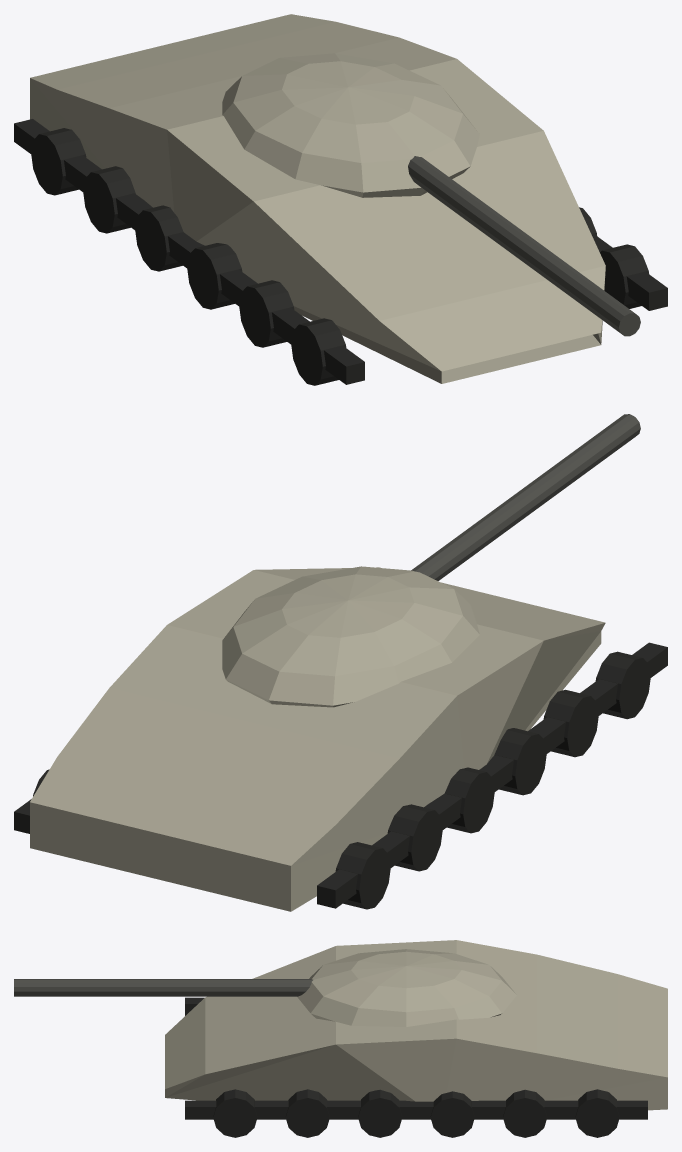
Rendered from t72_pol.glb.
3 views of the same model, one above another, from view 1: azimuth 30°, elevation 25°; view 2: azimuth 150°, elevation 25°; view 3: azimuth 270°, elevation 25° (orthographic). The views are drawn at different scales.
Visible parts, largest first — view 1: Hull, Turret, Gun, Track_L, Wheel_L_02, Wheel_L_06, Wheel_L_01, Wheel_L_03, Wheel_L_05, Wheel_L_04, Wheel_R_01, Track_R; view 2: Hull, Turret, Gun, Track_L, Wheel_L_01, Wheel_L_02, Wheel_L_06, Wheel_L_05, Wheel_L_03, Wheel_L_04; view 3: Hull, Turret, Gun, Track_R, Wheel_R_06, Wheel_R_01, Wheel_R_02, Wheel_R_03, Wheel_R_05, Wheel_R_04.
Boxes of the visible parts, left/top/right/bottom form: Hull: left=30, top=14, right=605, bottom=383; Turret: left=222, top=53, right=479, bottom=197; Gun: left=408, top=156, right=640, bottom=336; Track_L: left=14, top=119, right=364, bottom=384; Wheel_L_02: left=239, top=280, right=294, bottom=347; Wheel_L_06: left=31, top=128, right=86, bottom=195; Wheel_L_01: left=291, top=318, right=346, bottom=385; Wheel_L_03: left=187, top=243, right=242, bottom=309; Wheel_L_05: left=83, top=166, right=135, bottom=233; Wheel_L_04: left=135, top=205, right=183, bottom=271; Wheel_R_01: left=600, top=244, right=648, bottom=308; Track_R: left=591, top=233, right=667, bottom=310; Hull: left=30, top=567, right=605, bottom=911; Turret: left=222, top=566, right=479, bottom=707; Gun: left=411, top=414, right=640, bottom=580; Track_L: left=317, top=642, right=667, bottom=908; Wheel_L_01: left=595, top=651, right=650, bottom=719; Wheel_L_02: left=543, top=689, right=598, bottom=757; Wheel_L_06: left=335, top=842, right=390, bottom=909; Wheel_L_05: left=387, top=804, right=442, bottom=871; Wheel_L_03: left=494, top=728, right=546, bottom=795; Wheel_L_04: left=444, top=767, right=494, bottom=833; Hull: left=165, top=940, right=667, bottom=1110; Turret: left=297, top=949, right=516, bottom=1026; Gun: left=14, top=979, right=312, bottom=996; Track_R: left=185, top=1100, right=647, bottom=1119; Wheel_R_06: left=575, top=1089, right=619, bottom=1137; Wheel_R_01: left=213, top=1089, right=257, bottom=1137; Wheel_R_02: left=285, top=1089, right=329, bottom=1137; Wheel_R_03: left=358, top=1089, right=402, bottom=1137; Wheel_R_05: left=503, top=1089, right=547, bottom=1137; Wheel_R_04: left=430, top=1091, right=474, bottom=1137.
Size of the model in its own units: 3.6 by 1.75 by 8.92.
